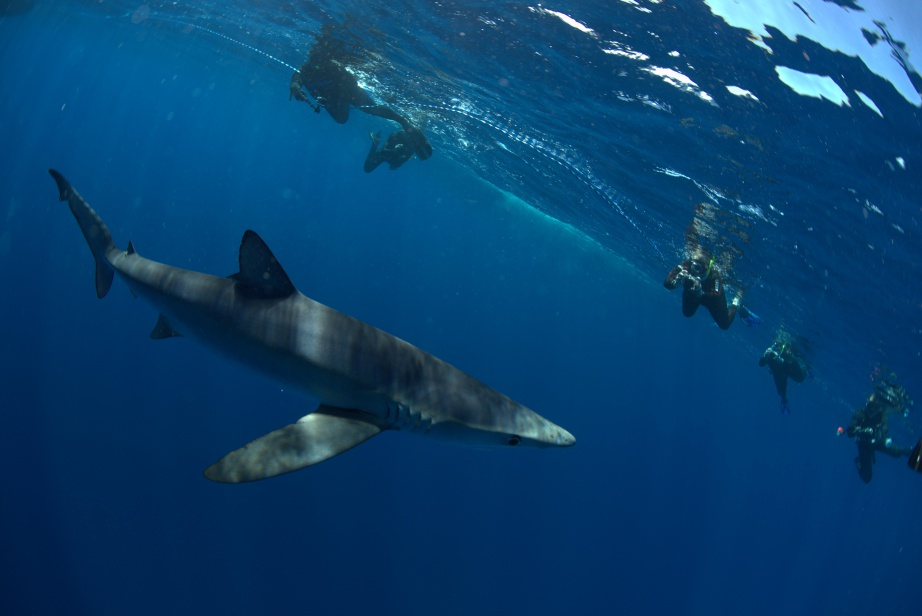Azul: (26, 157, 592, 508)
